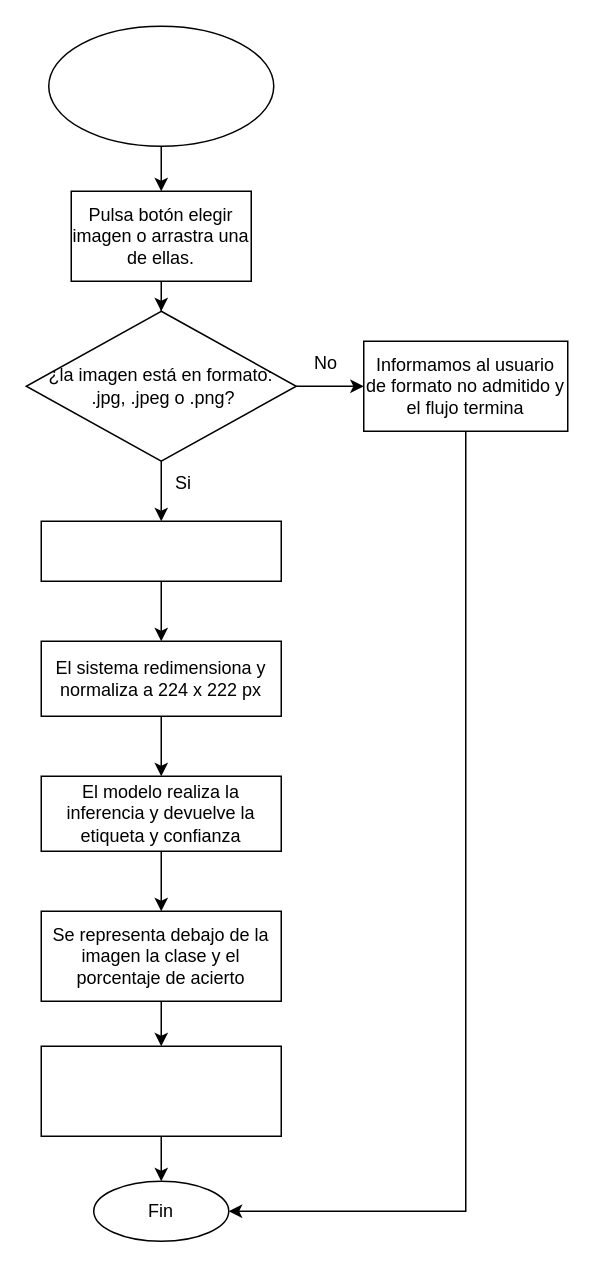
The diagram is 594 pixels wide and 1268 high, and some of its shapes have lost their labels. Here are the shapes that lost their labels. From the top down, the centre of each, then its label:
At [160,85]: "Usuario elige en el menú: Foto".
At [160,550]: "Se lee la imagen".
At [160,1090]: "Se habilita el botón de Descargar imagen".
